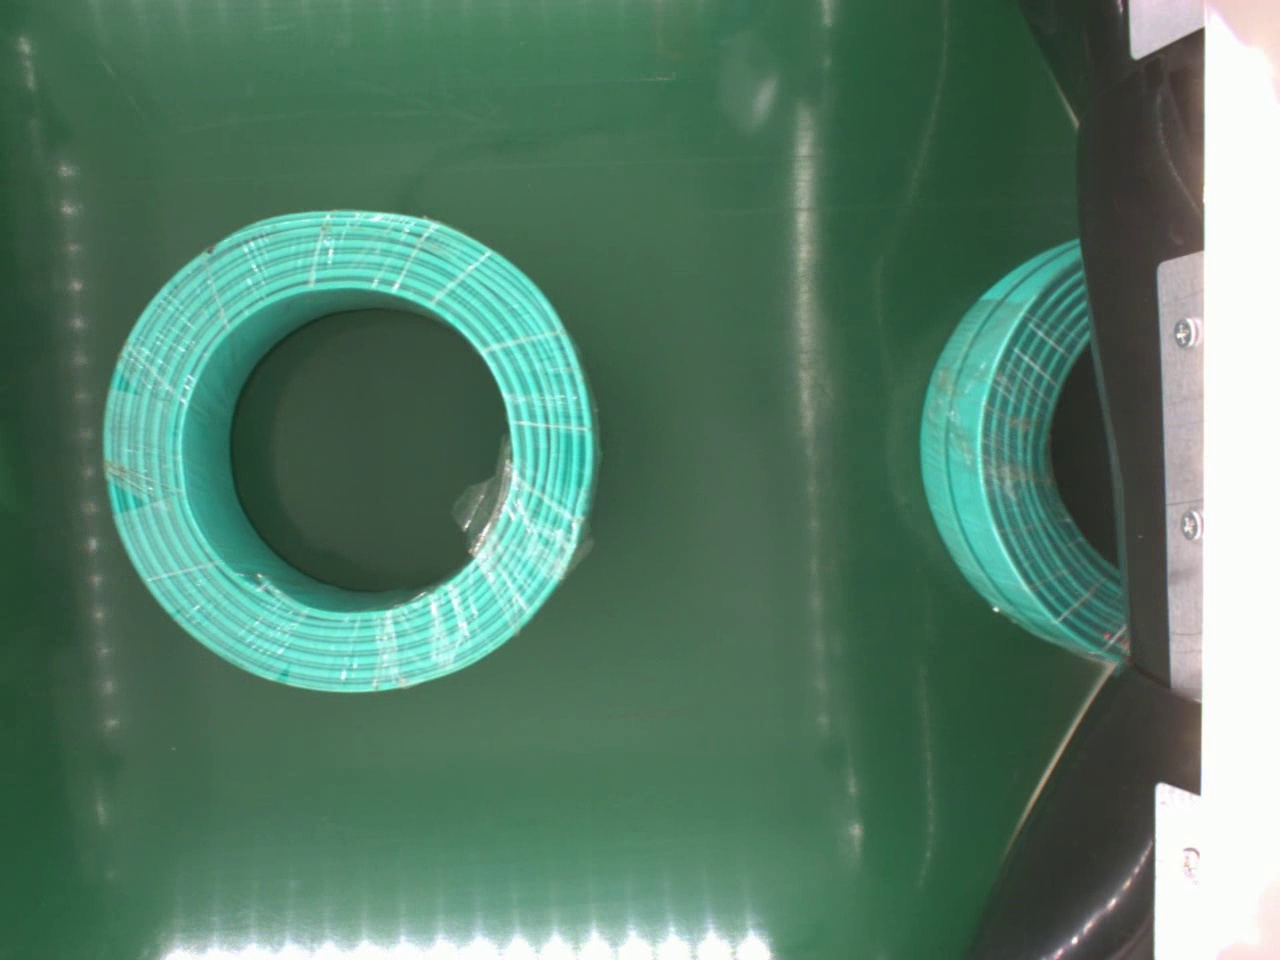green: (98, 207, 600, 702), (915, 241, 1133, 665)
